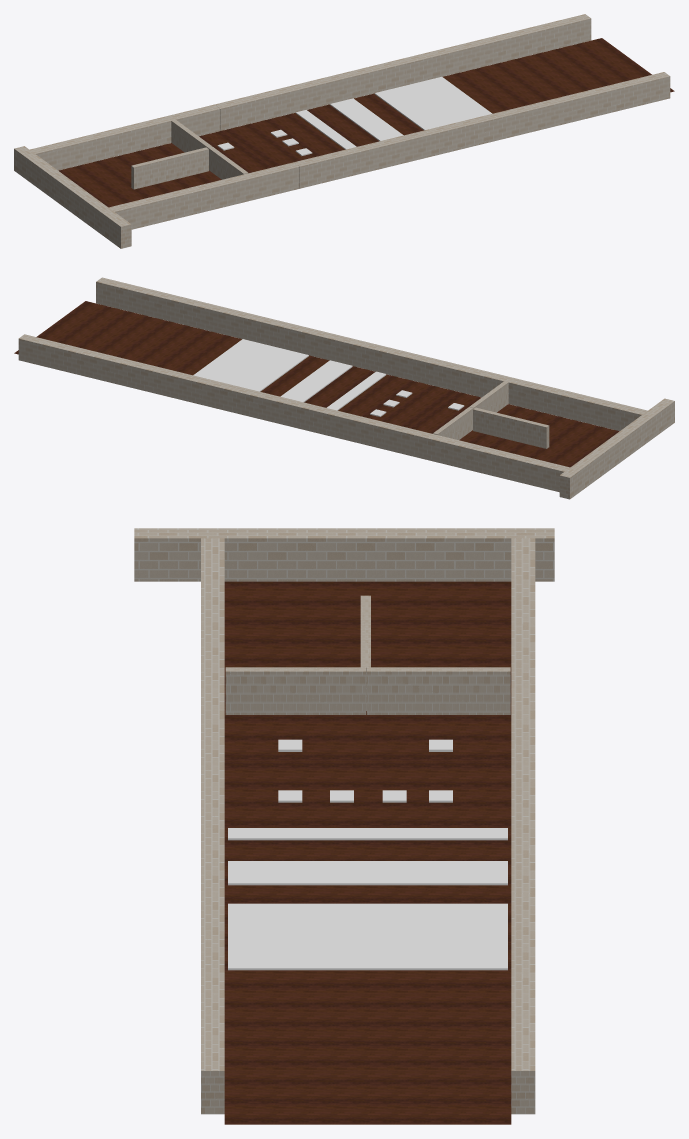
The model's file is longLevel.glb.
The picture shows the model from 3 angles, top to bottom: view 1: azimuth 30°, elevation 25°; view 2: azimuth 150°, elevation 25°; view 3: azimuth 270°, elevation 25°; orthographic projection. The views are drawn at different scales.
Parts seen in each view (by area): view 1: floor.002, floor.001, wall_b.002, wall_b.003, wall_b.004, wall_b.001, floor, wall_a, wall_b, wall_a.001, hazard_stripC, wall_b.005 (+4 smaller); view 2: floor.002, floor.001, wall_b.004, wall_b.001, wall_b.003, wall_b.002, floor, wall_b, wall_a, wall_a.001, hazard_stripC, wall_b.005 (+4 smaller); view 3: floor.002, floor, floor.001, wall_a.001, hazard_stripC, hazard_stripB, wall_doorA, wall_doorB, wall_b.004, wall_b.003, wall_b, wall_b.001 (+3 smaller).
Part boxes in pixels (<box>): floor.002: <box>443,38,674,113</box>; floor.001: <box>223,93,423,167</box>; wall_b.002: <box>294,117,485,188</box>; wall_b.003: <box>479,72,670,143</box>; wall_b.004: <box>400,14,591,85</box>; wall_b.001: <box>215,59,405,130</box>; floor: <box>58,130,272,207</box>; wall_a: <box>108,162,299,229</box>; wall_b: <box>30,104,220,170</box>; wall_a.001: <box>14,146,131,248</box>; hazard_stripC: <box>374,76,492,130</box>; wall_b.005: <box>131,147,208,189</box>; floor.002: <box>14,301,241,375</box>; floor.001: <box>260,355,457,427</box>; wall_b.004: <box>18,334,205,404</box>; wall_b.001: <box>200,378,387,448</box>; wall_b.003: <box>96,277,283,347</box>; wall_b.002: <box>278,322,465,391</box>; floor: <box>409,392,619,467</box>; wall_b: <box>382,423,569,492</box>; wall_a: <box>460,366,647,430</box>; wall_a.001: <box>559,398,674,499</box>; hazard_stripC: <box>193,339,308,391</box>; wall_b.005: <box>473,407,549,448</box>; floor.002: <box>224,943,511,1124</box>; floor: <box>224,581,511,761</box>; floor.001: <box>224,761,511,942</box>; wall_a.001: <box>134,528,554,581</box>; hazard_stripC: <box>228,903,507,970</box>; hazard_stripB: <box>228,861,507,885</box>; wall_doorA: <box>366,667,510,714</box>; wall_doorB: <box>225,667,365,714</box>; wall_b.004: <box>511,893,535,1114</box>; wall_b.003: <box>201,893,224,1114</box>; wall_b: <box>511,538,535,715</box>; wall_b.001: <box>511,716,535,893</box>.
Size of what is drawn, in the model's own units: 54.8 by 2.05 by 17.6.
Materials: 2 (2 with a texture image).
